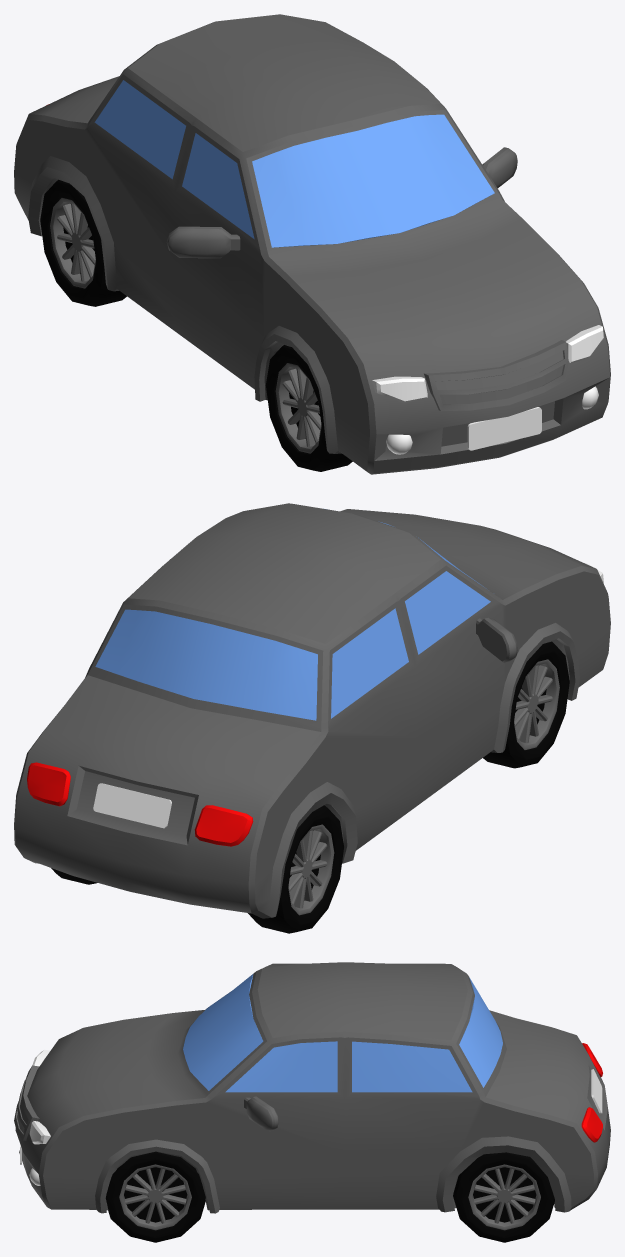
3 views of the same model, one above another, from view 1: azimuth 30°, elevation 25°; view 2: azimuth 150°, elevation 25°; view 3: azimuth 270°, elevation 25° (orthographic). The views are drawn at different scales.
Parts seen in each view (by area): view 1: body, windows, Tube_2, grill, Cylinder_2, sidemirrors, Tube, lights_3, numberplate, Sphere; view 2: body, windows, Tube_2, Cylinder_2, rearlights, Tube, numberplate_1, sidemirrors; view 3: body, windows, Tube_2, Cylinder_2, Cylinder_1, Tube, grill, sidemirrors, rearlights, lights_3.
Boxes of the visible parts, x1=… form: body: x1=14, y1=14, x2=610, y2=474; windows: x1=94, y1=80, x2=494, y2=247; Tube_2: x1=40, y1=179, x2=352, y2=471; grill: x1=424, y1=340, x2=568, y2=411; Cylinder_2: x1=57, y1=203, x2=321, y2=446; sidemirrors: x1=166, y1=147, x2=517, y2=258; Tube: x1=50, y1=198, x2=321, y2=453; lights_3: x1=372, y1=325, x2=603, y2=403; numberplate: x1=467, y1=407, x2=541, y2=450; Sphere: x1=386, y1=386, x2=598, y2=454; body: x1=14, y1=503, x2=610, y2=918; windows: x1=95, y1=509, x2=490, y2=720; Tube_2: x1=51, y1=641, x2=569, y2=933; Cylinder_2: x1=288, y1=665, x2=552, y2=908; rearlights: x1=27, y1=762, x2=253, y2=846; Tube: x1=288, y1=659, x2=559, y2=915; numberplate_1: x1=93, y1=783, x2=171, y2=828; sidemirrors: x1=170, y1=559, x2=517, y2=663; body: x1=15, y1=962, x2=610, y2=1213; windows: x1=183, y1=974, x2=502, y2=1092; Tube_2: x1=105, y1=1151, x2=554, y2=1242; Cylinder_2: x1=125, y1=1168, x2=535, y2=1223; Cylinder_1: x1=124, y1=1167, x2=536, y2=1222; Tube: x1=119, y1=1164, x2=540, y2=1230; grill: x1=14, y1=1065, x2=39, y2=1140; sidemirrors: x1=244, y1=1096, x2=278, y2=1131; rearlights: x1=581, y1=1043, x2=602, y2=1142; lights_3: x1=29, y1=1049, x2=50, y2=1144.
Size of the model in its own units: 773 by 594 by 1484.
